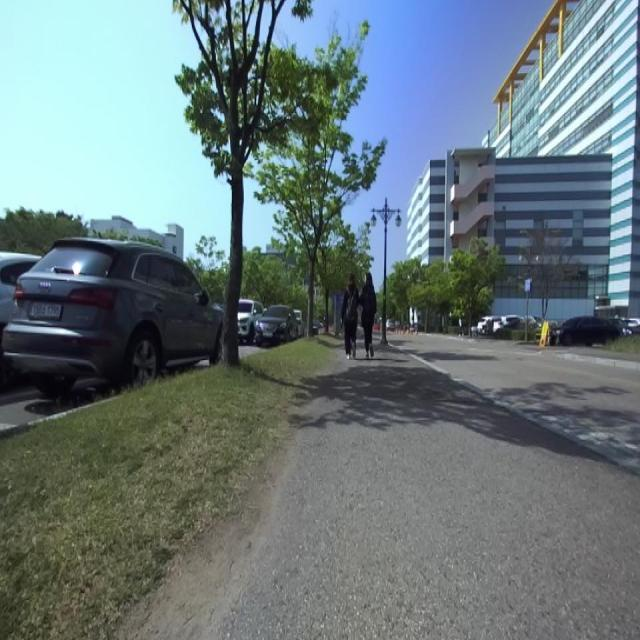sidewalk: (220, 348, 640, 639)
